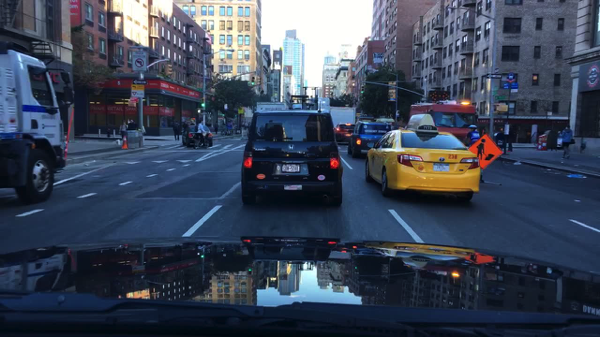bike: (479, 168, 487, 183)
bus: (408, 97, 477, 145)
car: (363, 111, 482, 206), (240, 105, 344, 209), (346, 120, 393, 160), (180, 124, 214, 148), (333, 123, 355, 147), (555, 131, 567, 150), (355, 116, 375, 125)
person: (557, 121, 572, 161), (505, 125, 514, 153), (171, 119, 181, 141), (118, 118, 128, 139), (126, 118, 138, 131), (231, 120, 238, 135), (213, 121, 220, 135), (181, 119, 188, 132), (141, 124, 147, 139), (189, 120, 196, 129)
rider: (463, 124, 482, 149), (195, 119, 211, 148)
traffic light: (494, 103, 508, 113), (165, 63, 174, 77), (250, 74, 256, 86), (127, 101, 136, 109), (200, 98, 206, 109), (359, 84, 365, 95), (256, 76, 261, 86), (195, 107, 201, 113)
traffic sign: (466, 132, 500, 176), (131, 51, 148, 71), (130, 86, 146, 99), (502, 81, 518, 94), (388, 82, 396, 102), (132, 78, 148, 85), (485, 73, 502, 79), (506, 72, 515, 82), (504, 123, 510, 135), (129, 96, 139, 103), (237, 107, 244, 114), (493, 67, 499, 74), (224, 103, 228, 111), (396, 111, 399, 118)
truck: (0, 38, 74, 207), (329, 106, 358, 126), (257, 101, 287, 113)
